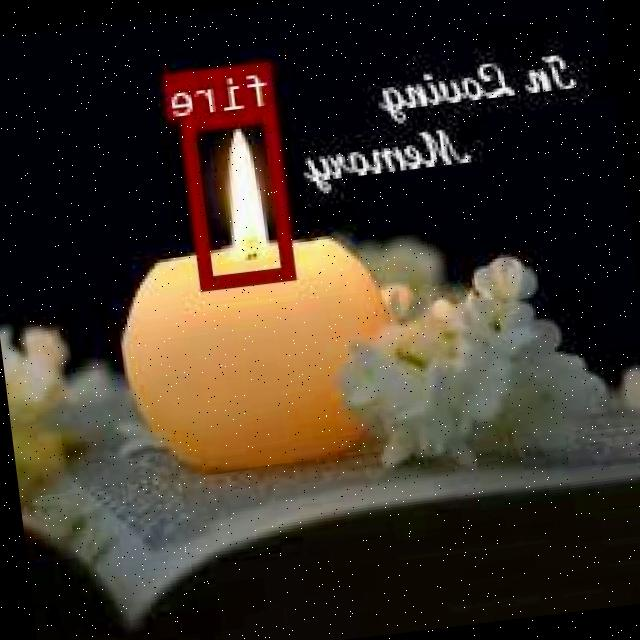fire: (185, 105, 298, 286)
